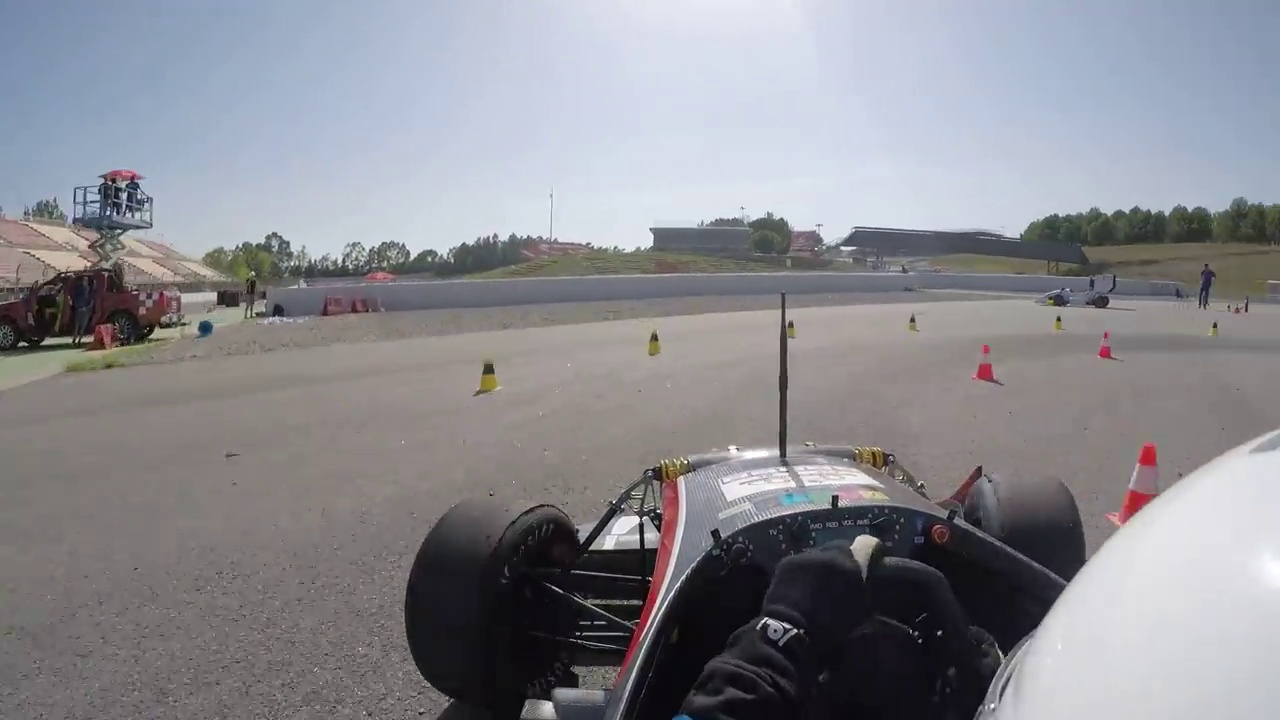Cone: (975, 340, 999, 384), (476, 353, 500, 394)
